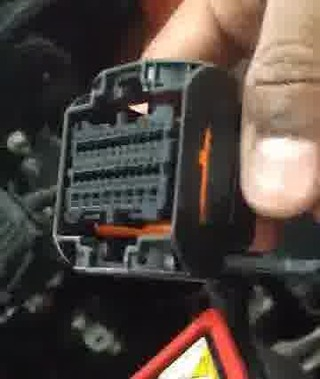connector: (44, 59, 241, 286)
